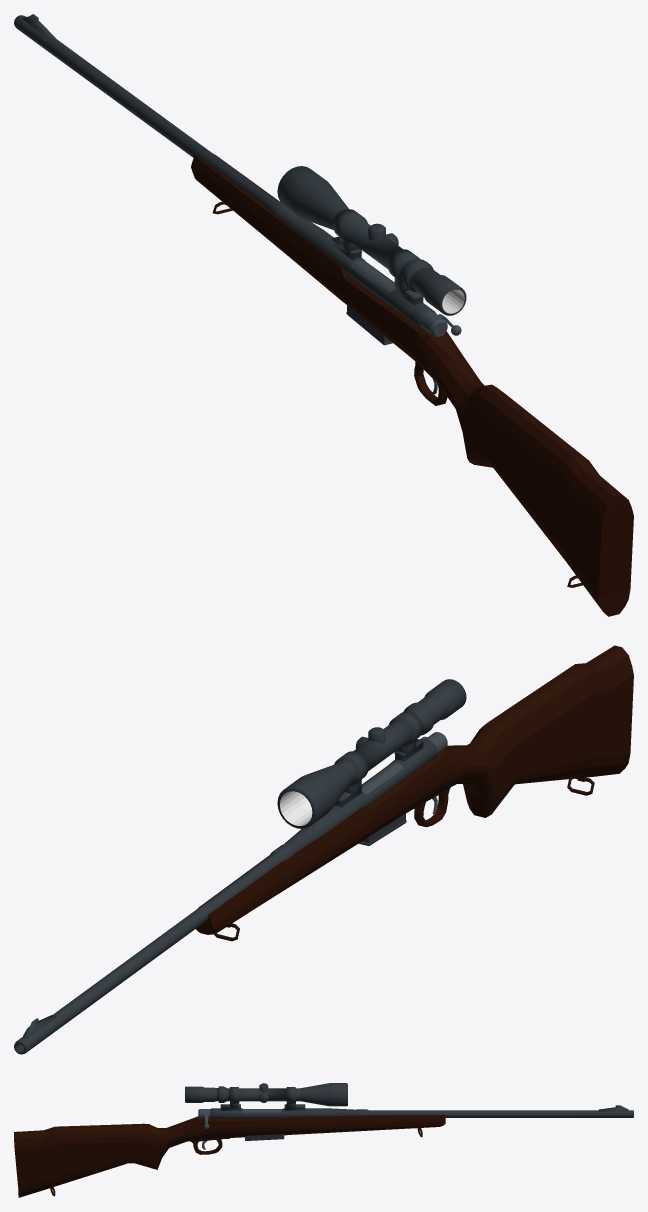
Rendered from scout-world.glb.
3 views of the same model, one above another, from view 1: azimuth 30°, elevation 25°; view 2: azimuth 150°, elevation 25°; view 3: azimuth 270°, elevation 25° (orthographic). The views are drawn at different scales.
Visible parts, largest first — view 1: Cabo, Cano, bolt; view 2: Cabo, Cano, Luneta, bolt; view 3: Cabo, Cano, bolt, magazine.
Boxes of the visible parts, bbox=[...] form: Cabo: bbox=[191, 154, 633, 616]; Cano: bbox=[14, 14, 466, 326]; bolt: bbox=[353, 261, 461, 336]; Cabo: bbox=[196, 645, 633, 941]; Cano: bbox=[14, 679, 466, 1054]; Luneta: bbox=[280, 791, 312, 825]; bolt: bbox=[361, 732, 447, 794]; Cabo: bbox=[14, 1115, 445, 1197]; Cano: bbox=[185, 1083, 633, 1118]; bolt: bbox=[198, 1109, 282, 1129]; magazine: bbox=[245, 1134, 284, 1140].
Bounding box in the file's own units: 0.0424 × 0.184 × 0.92.
Materials: 6 (5 with a texture image).
